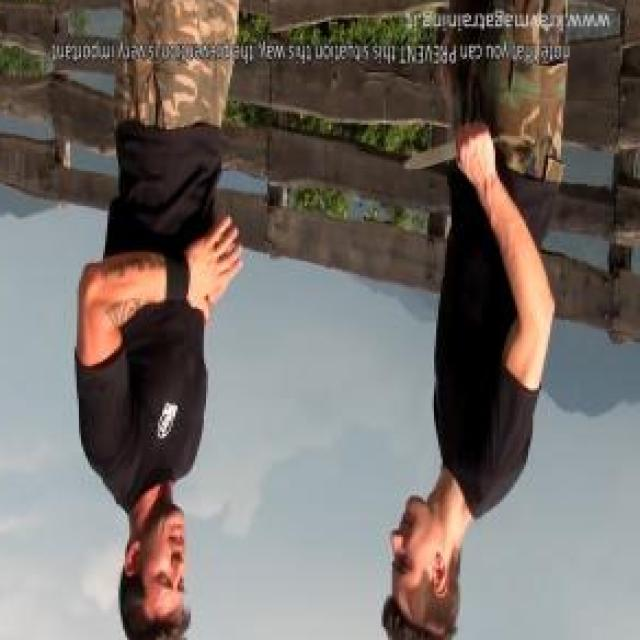knife: (398, 116, 504, 182)
